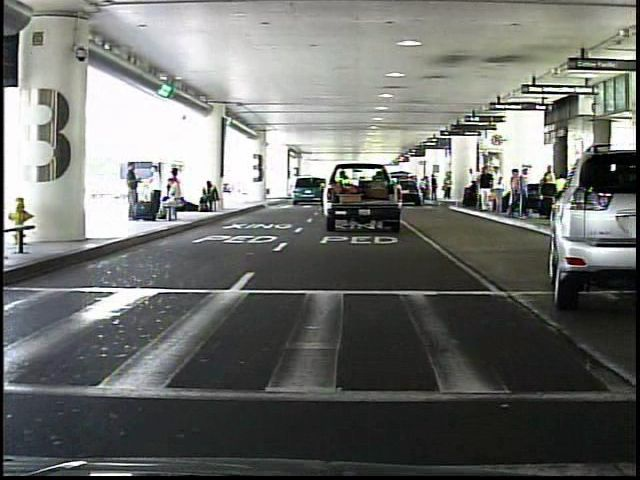person: (122, 160, 145, 225), (478, 166, 497, 218), (491, 165, 505, 216), (441, 171, 456, 205), (430, 171, 440, 203)
